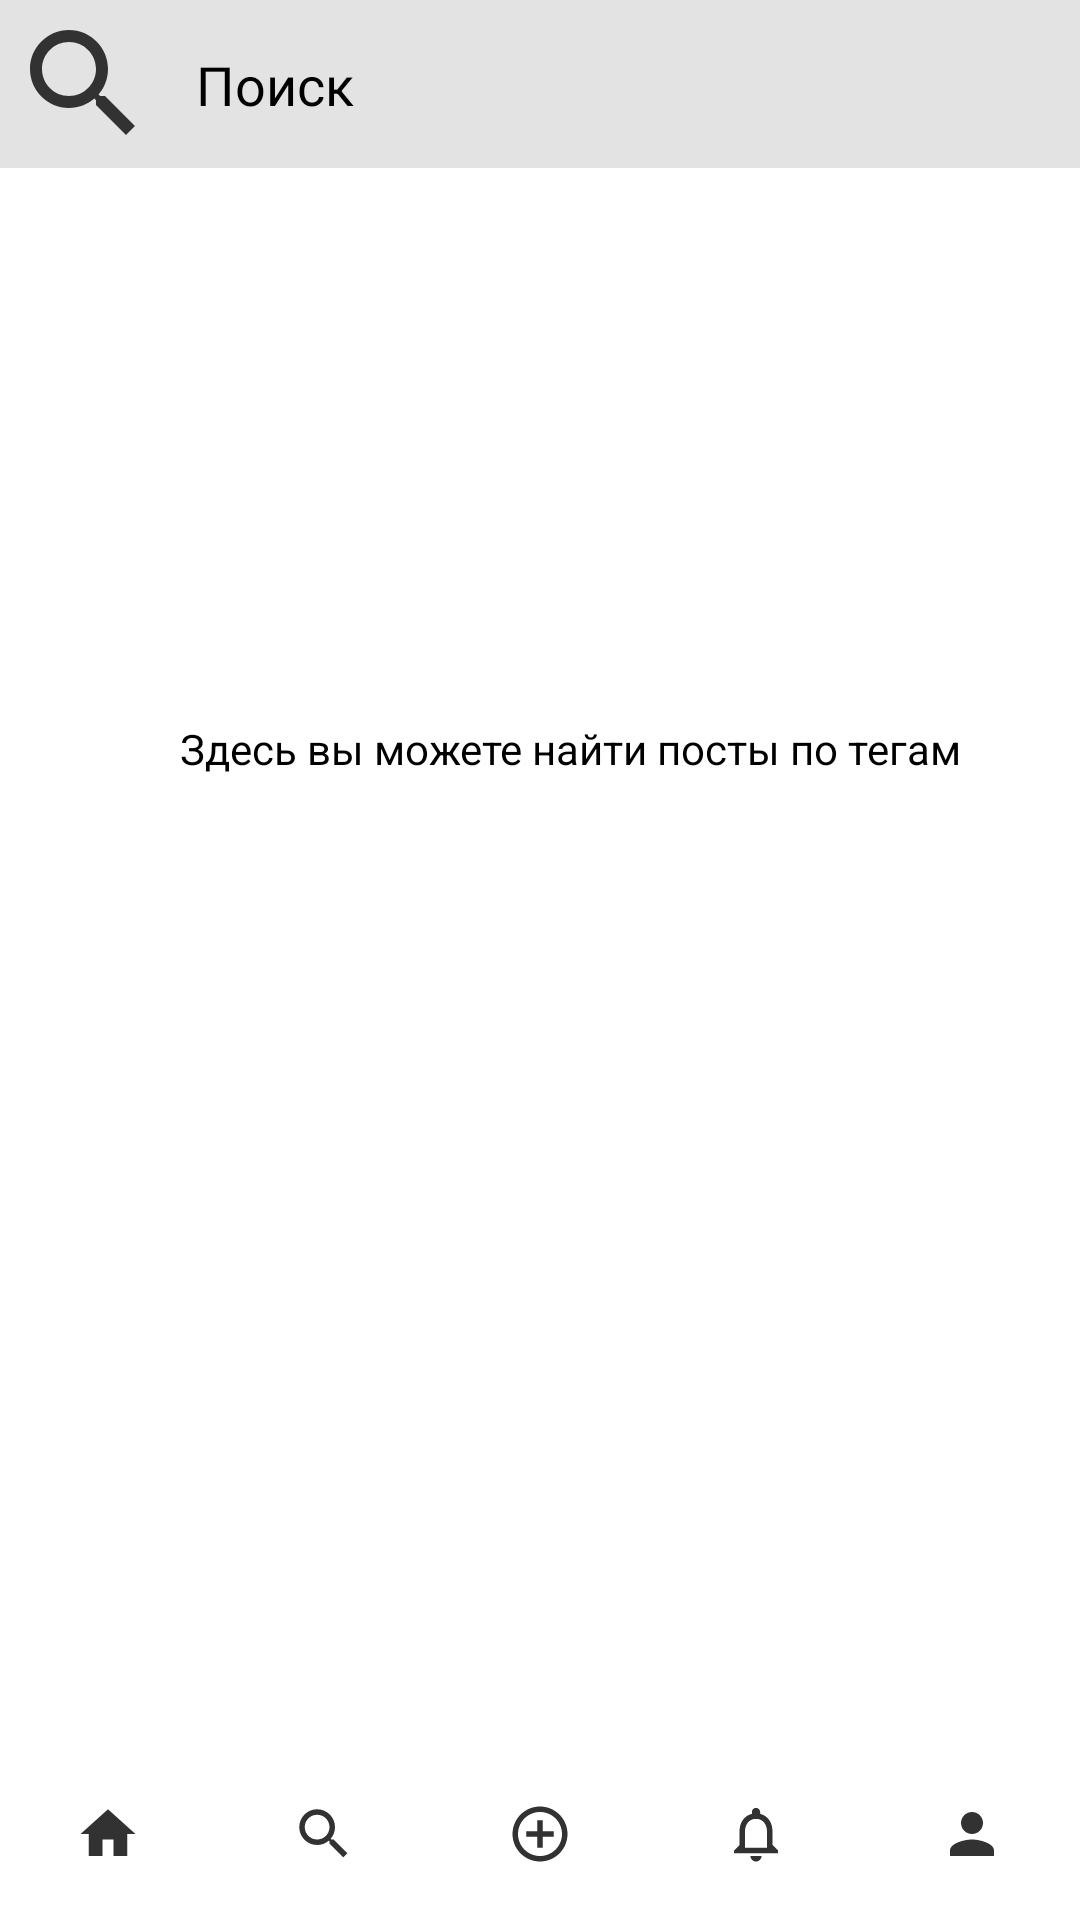

Locate icon controls on the screen. Image size 1080px x 1920px, boxes as (x1, y1, x2, y2).
add circle: (512, 1806, 568, 1862)
home: (81, 1809, 135, 1856)
notifications none: (734, 1808, 778, 1862)
person: (950, 1812, 994, 1856)
